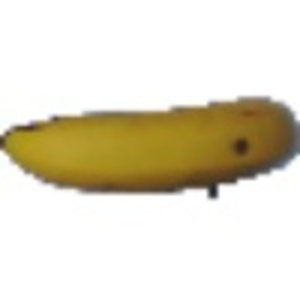banana: (1, 97, 296, 191)
